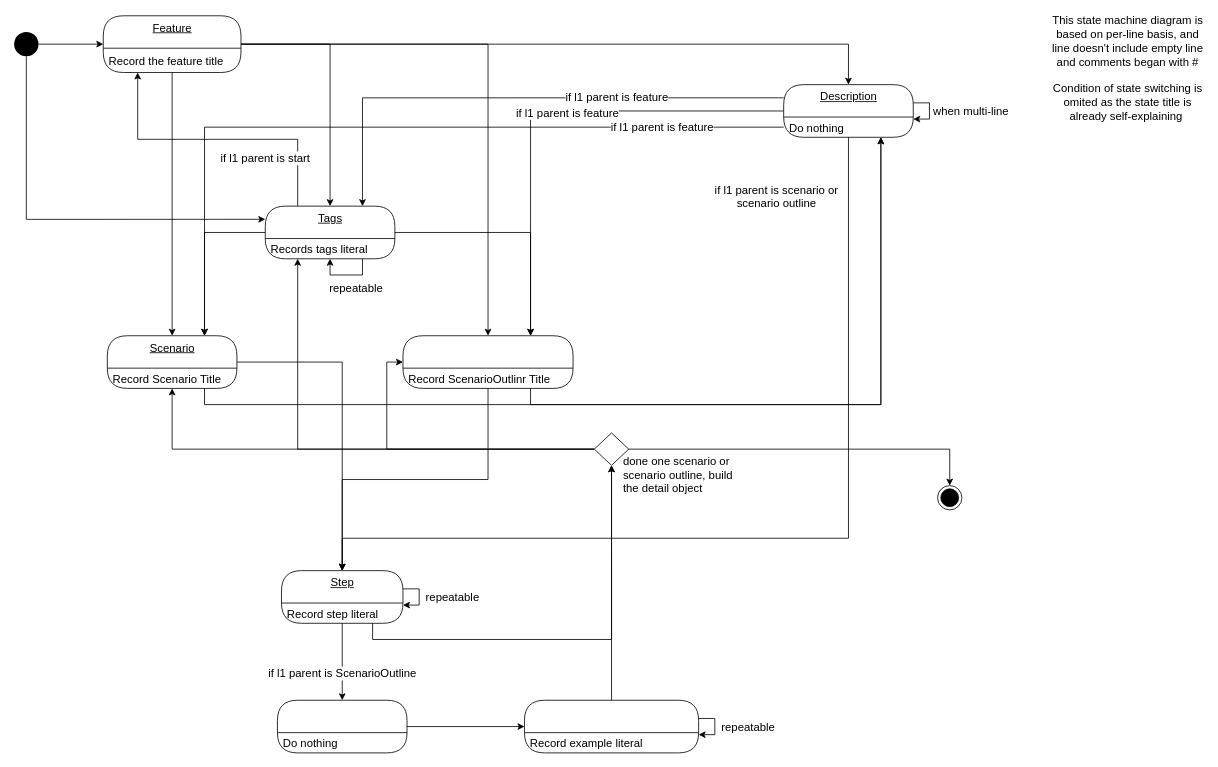
This 1218x767 diagram has some shape labels left out. The box of each missing label's shape, as (x1, y1, x2, y2) in pixels:
Example: (277, 699, 407, 753)
Example contents (include both title and values): (524, 699, 699, 753)
ScenarioOutline: (402, 335, 573, 388)
